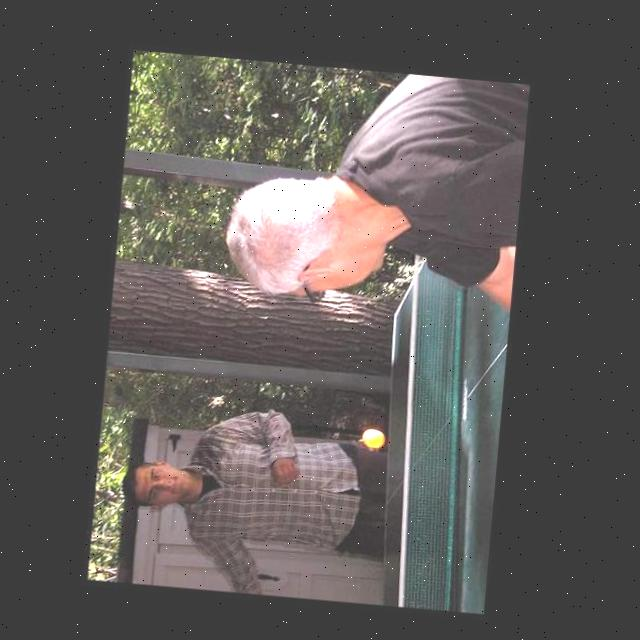ping-pong-ball: (361, 426, 386, 448)
